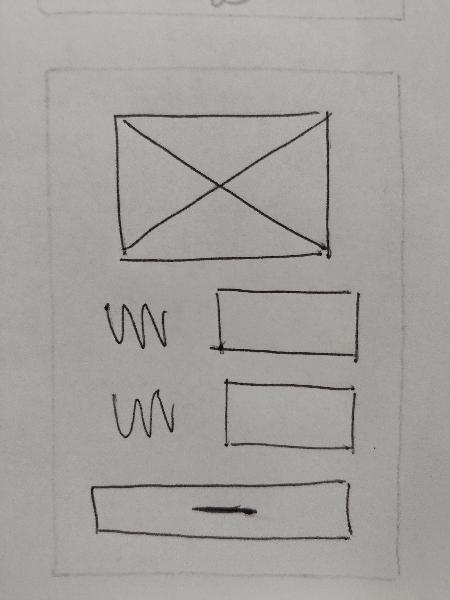button: (75, 470, 370, 550)
image: (103, 106, 345, 272)
text: (99, 386, 197, 446), (90, 298, 184, 346)
text_input: (209, 281, 368, 368), (212, 377, 368, 463)
